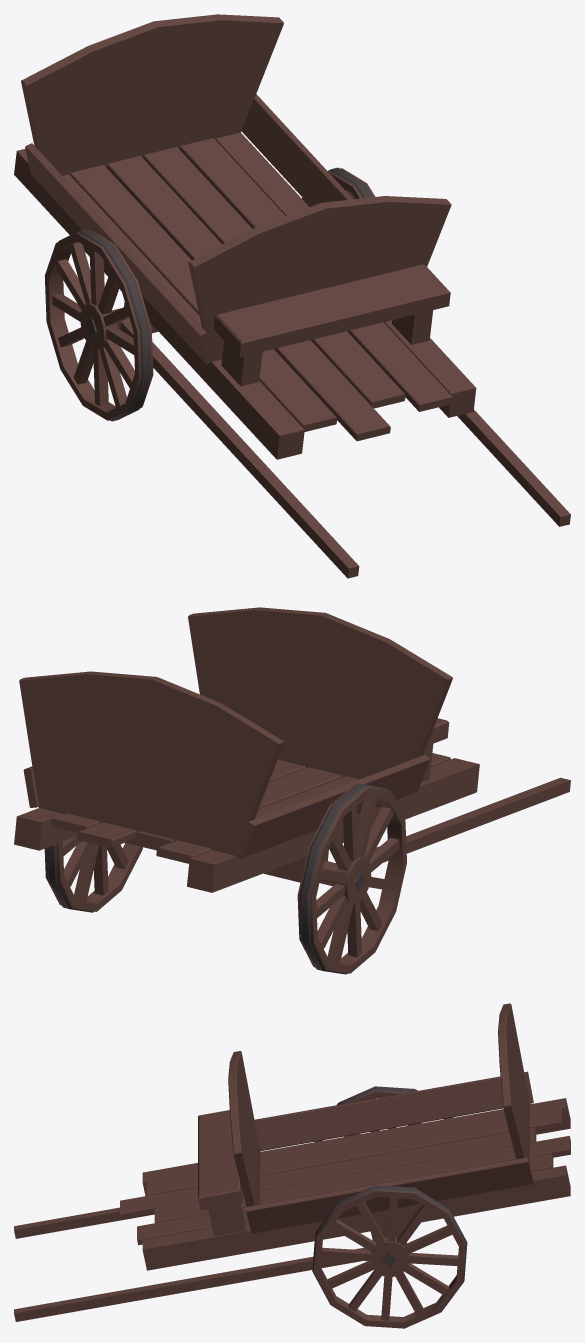
The model's file is Cart.fbx.
3 views of the same model, one above another, from view 1: azimuth 30°, elevation 25°; view 2: azimuth 150°, elevation 25°; view 3: azimuth 270°, elevation 25° (orthographic). The views are drawn at different scales.
Parts seen in each view (by area): view 1: haycart; view 2: haycart; view 3: haycart.
Boxes of the visible parts, left/top/right/bottom form: haycart: left=14, top=14, right=570, bottom=578; haycart: left=14, top=607, right=570, bottom=974; haycart: left=14, top=1003, right=570, bottom=1328.
Size of the model in its own units: 0.0156 by 0.0172 by 0.035.
